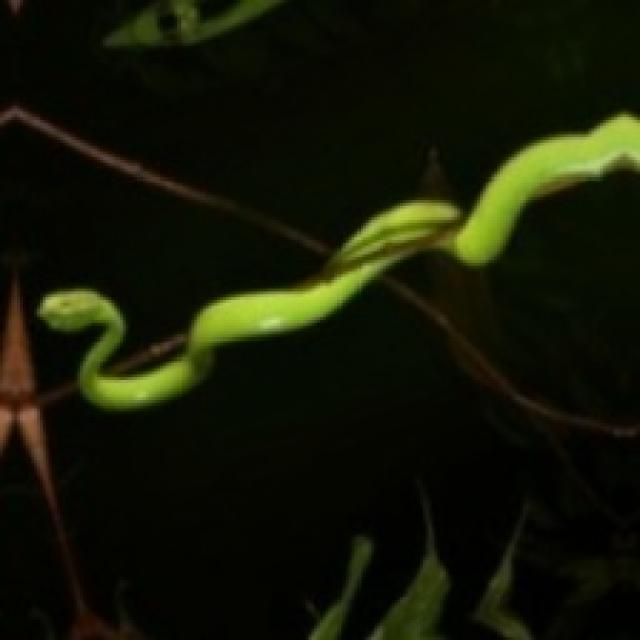north ph temple pitviper: (37, 114, 637, 409)
